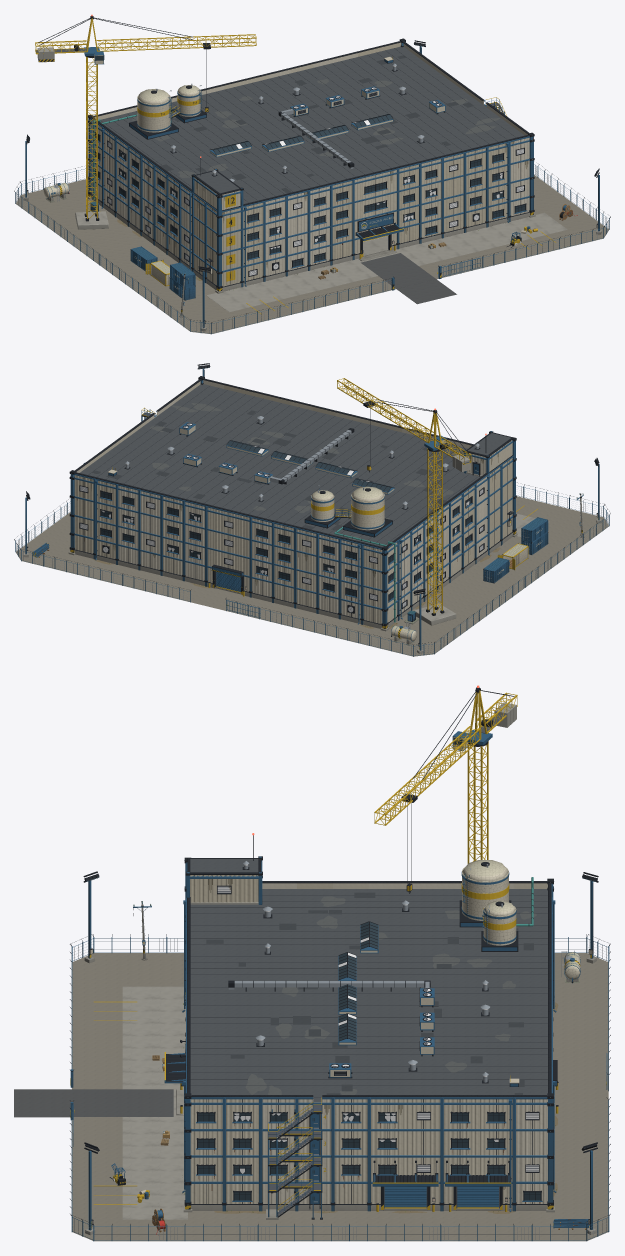
Rendered from warehouse_large.glb.
The picture shows the model from 3 angles, top to bottom: view 1: azimuth 30°, elevation 25°; view 2: azimuth 150°, elevation 25°; view 3: azimuth 270°, elevation 25°; orthographic projection. The views are drawn at different scales.
Visible parts, largest first — view 1: warehouse_large.001; view 2: warehouse_large.001; view 3: warehouse_large.001.
Part boxes in pixels (x1,y1,x2,y2): warehouse_large.001: (14, 14, 610, 334); warehouse_large.001: (14, 363, 610, 656); warehouse_large.001: (14, 685, 610, 1241).
Size of what is drawn, in the model's own units: 96.16 by 44.93 by 82.32.
Materials: 143 (140 with a texture image).
